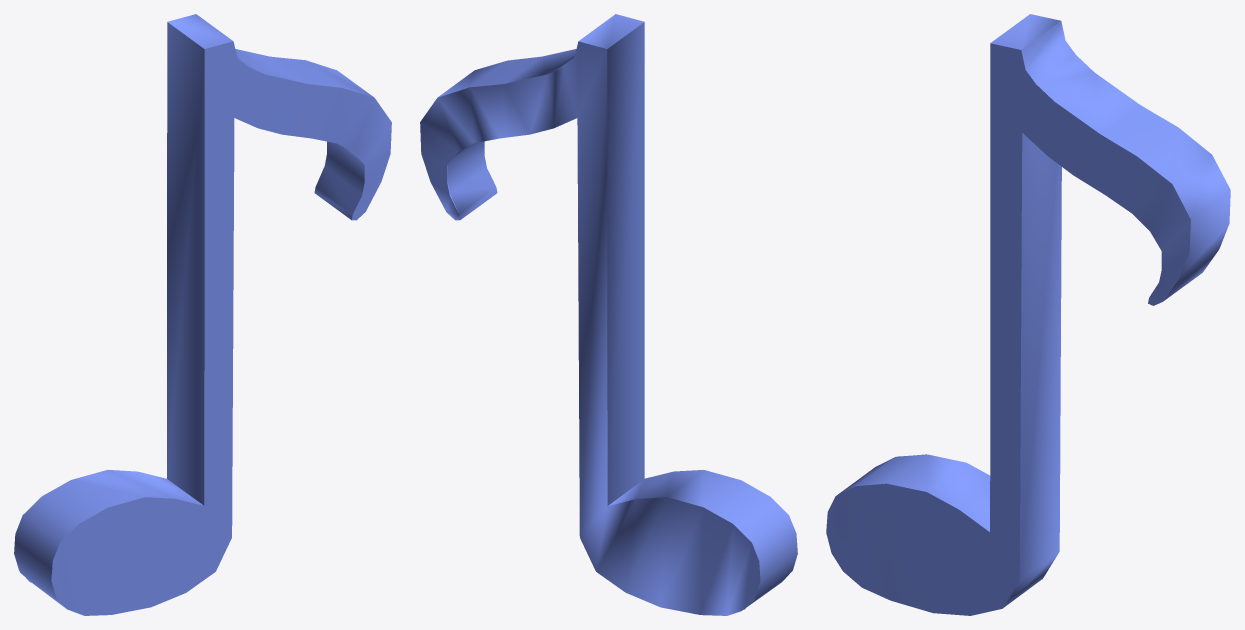
File: MusicalNote_1_Blue.fbx
3 views of the same model, side by side, from view 1: azimuth 30°, elevation 25°; view 2: azimuth 150°, elevation 25°; view 3: azimuth 330°, elevation 25° (orthographic). The views are drawn at different scales.
Parts seen in each view (by area): view 1: MusicalNote_1_Blue; view 2: MusicalNote_1_Blue; view 3: MusicalNote_1_Blue.
Part boxes in pixels (bbox=[...]): MusicalNote_1_Blue: bbox=[14, 14, 391, 615]; MusicalNote_1_Blue: bbox=[420, 14, 797, 615]; MusicalNote_1_Blue: bbox=[826, 14, 1230, 615].
Bounding box in the file's own units: 3.9 × 0.74 × 5.97.
